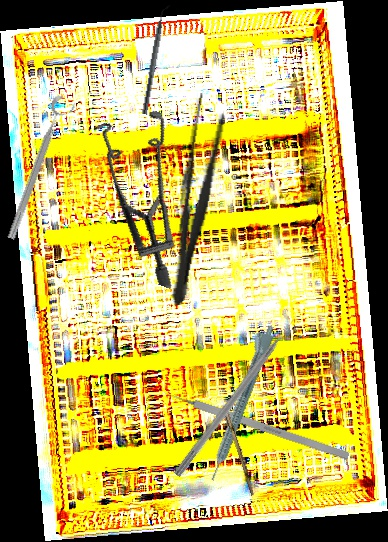Chopper: (141, 3, 173, 116)
Dressing Forceps: (161, 91, 230, 309)
Fixation Ring: (3, 93, 78, 245)
Handpiece: (199, 321, 278, 483)
Hook Surgical: (157, 386, 350, 461)
Pusher: (173, 314, 301, 479)
Speculum: (49, 92, 230, 290)
Surgical Spoon: (210, 376, 258, 496)
